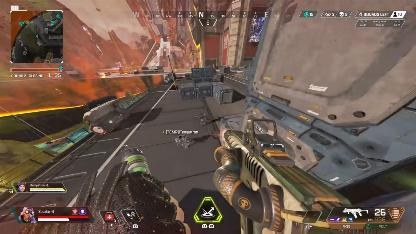Target: (174, 134, 190, 146), (198, 112, 206, 126)
